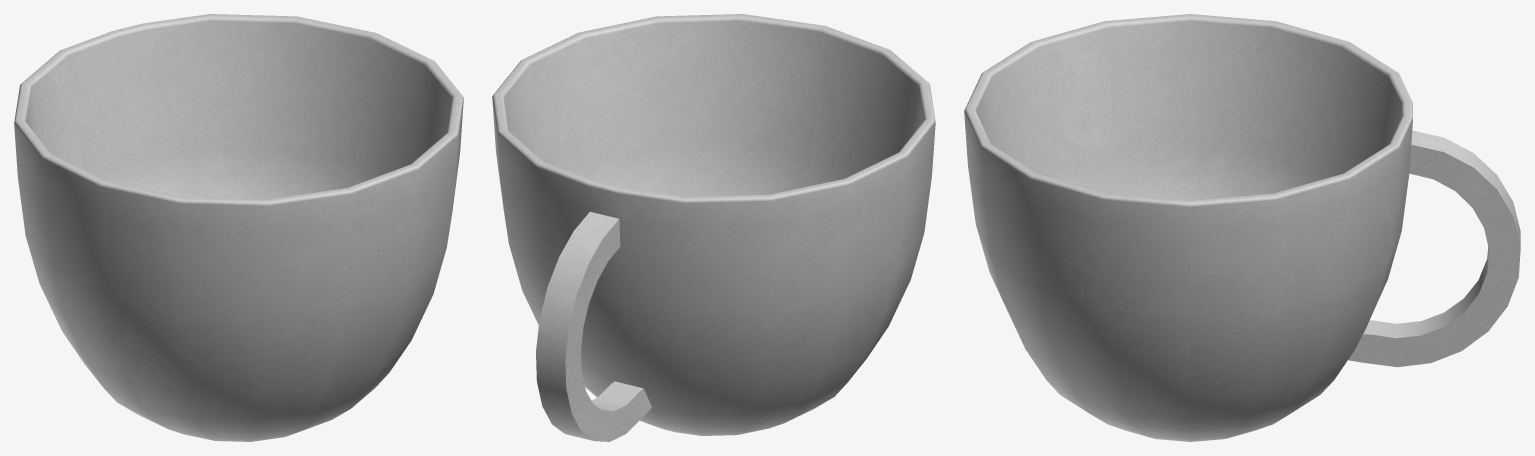
The model's file is coffee_cup.obj.
The picture shows the model from 3 angles, left to right: view 1: azimuth 30°, elevation 25°; view 2: azimuth 150°, elevation 25°; view 3: azimuth 270°, elevation 25°; orthographic projection.
Visible parts, largest first — view 1: coffee_cup; view 2: coffee_cup; view 3: coffee_cup.
Boxes of the visible parts, x1,y1,x2,y2 form: coffee_cup: (14, 14, 463, 441); coffee_cup: (492, 14, 935, 441); coffee_cup: (964, 14, 1520, 441).
Bounding box in the file's own units: 0.0924 × 0.0696 × 0.1137.
